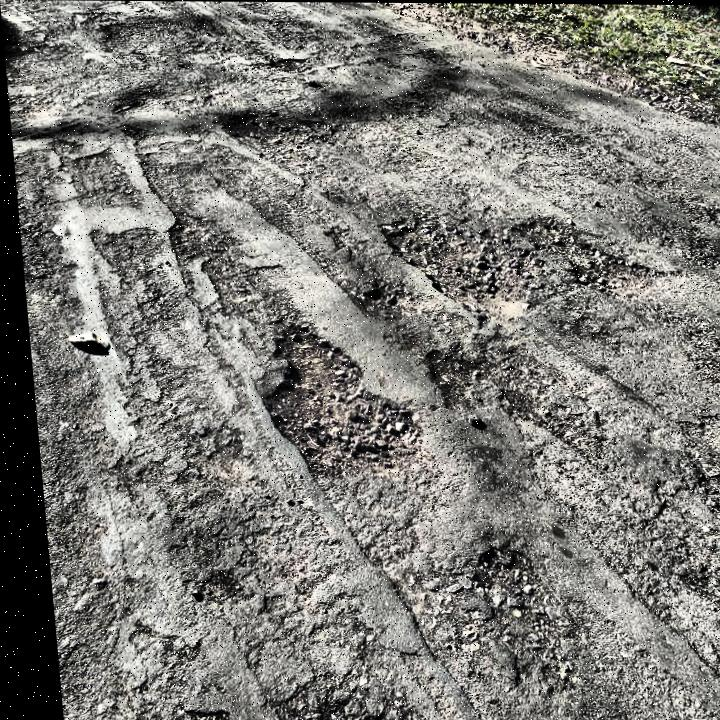pothole: (242, 320, 424, 482), (370, 202, 543, 313), (457, 542, 566, 685), (508, 213, 663, 295), (416, 346, 556, 425), (213, 108, 315, 167), (352, 280, 424, 316)
